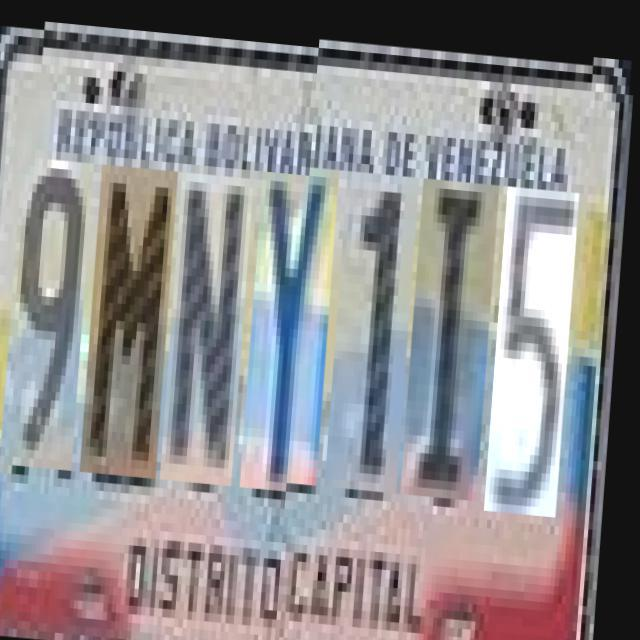1: (332, 164, 422, 485)
5: (491, 175, 581, 506)
9: (8, 148, 96, 460)
I: (408, 170, 502, 490)
M: (87, 154, 181, 466)
N: (168, 160, 256, 472)
Y: (248, 158, 342, 478)
